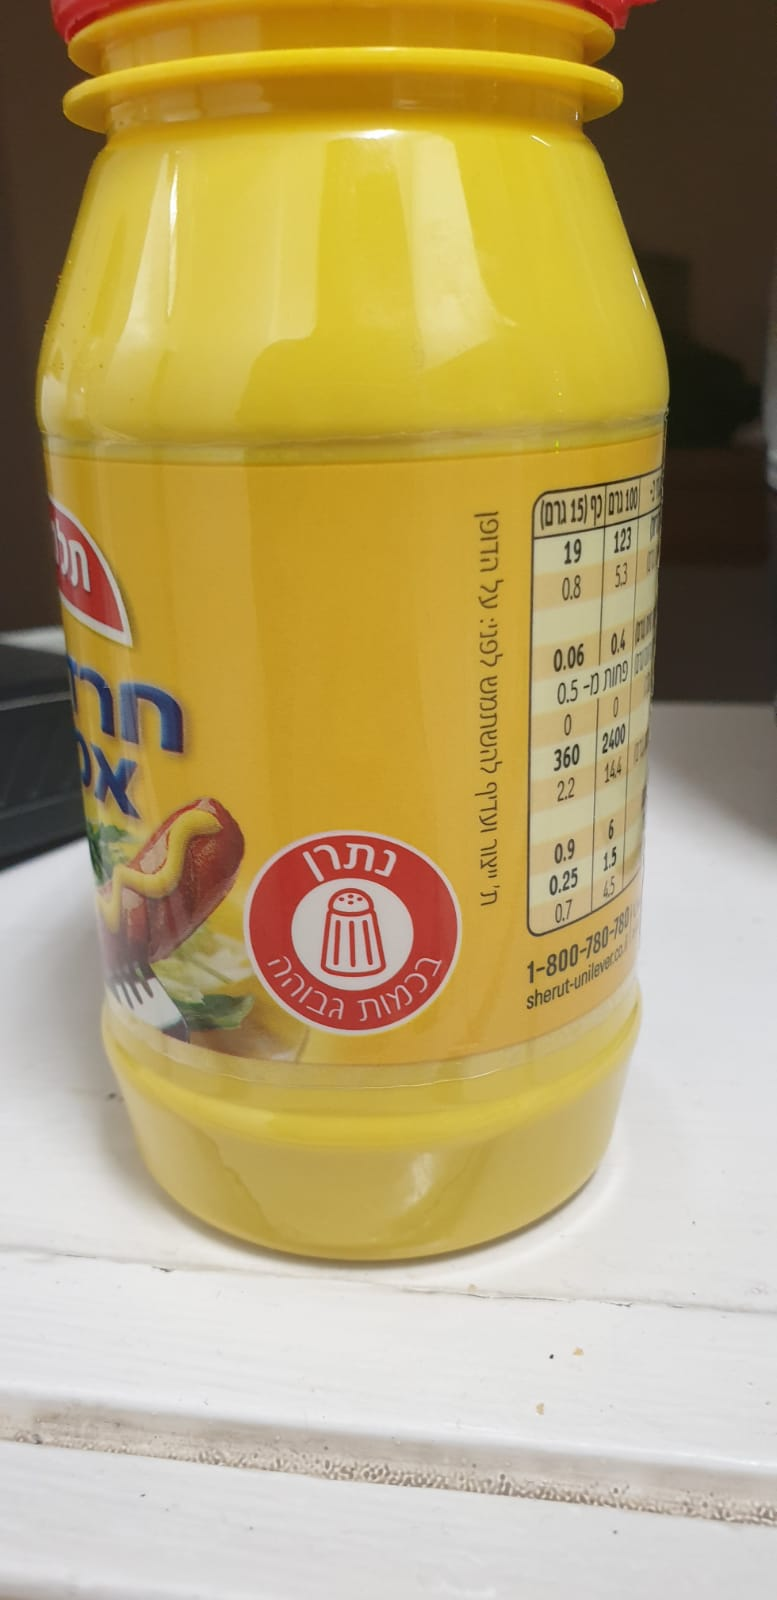salt: (242, 828, 462, 1040)
